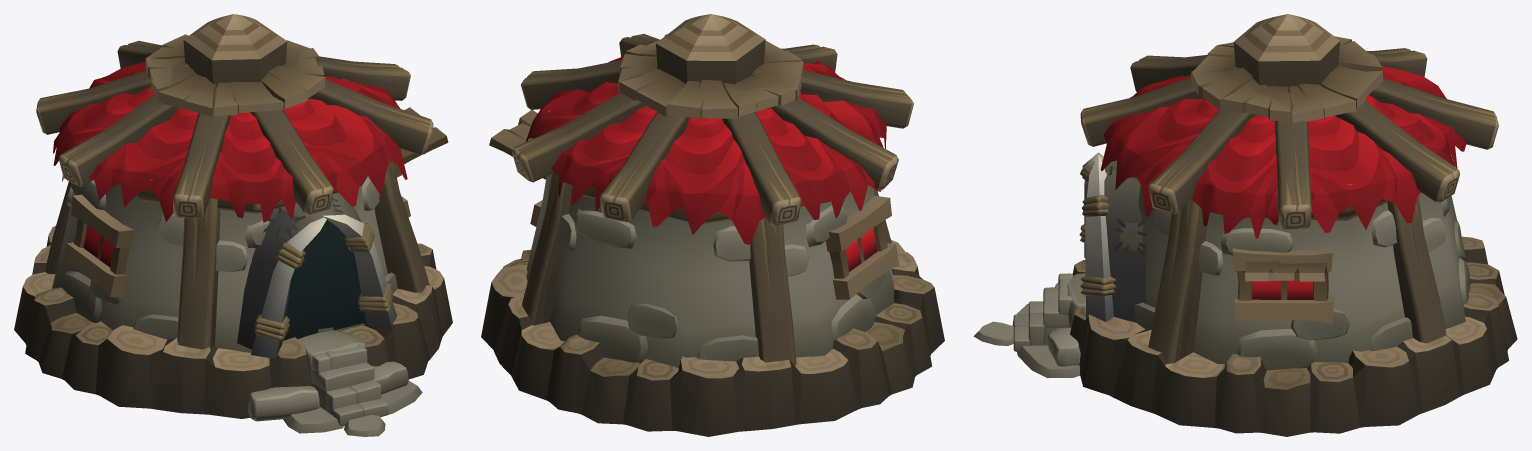
File: orc_house_Lv1.fbx
The picture shows the model from 3 angles, left to right: view 1: azimuth 30°, elevation 25°; view 2: azimuth 150°, elevation 25°; view 3: azimuth 270°, elevation 25°; orthographic projection. The views are drawn at different scales.
Parts seen in each view (by area): view 1: orc_hut_Lv1; view 2: orc_hut_Lv1; view 3: orc_hut_Lv1.
Boxes of the visible parts, x1=… form: orc_hut_Lv1: x1=14, y1=14, x2=452, y2=436; orc_hut_Lv1: x1=481, y1=14, x2=944, y2=436; orc_hut_Lv1: x1=973, y1=14, x2=1517, y2=436.
Size of the model in its own units: 7.8 by 6.01 by 9.07.
